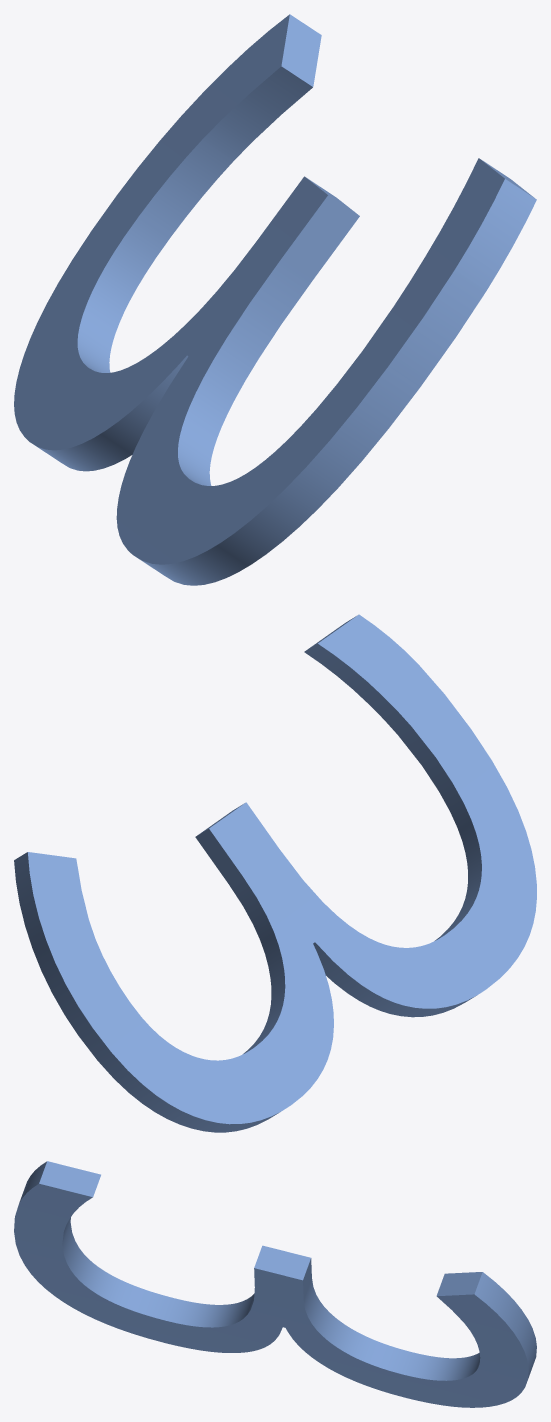
Rendered from New_Number_3.gltf.
3 views of the same model, one above another, from view 1: azimuth 30°, elevation 25°; view 2: azimuth 150°, elevation 25°; view 3: azimuth 270°, elevation 25° (orthographic). The views are drawn at different scales.
Parts seen in each view (by area): view 1: Part 678; view 2: Part 678; view 3: Part 678.
Part boxes in pixels (x1,y1,x2,y2): Part 678: (14,14,536,585); Part 678: (14,614,536,1132); Part 678: (14,1161,536,1407).
Bounding box in the file's own units: 0.00311 × 0.00313 × 0.00508.
